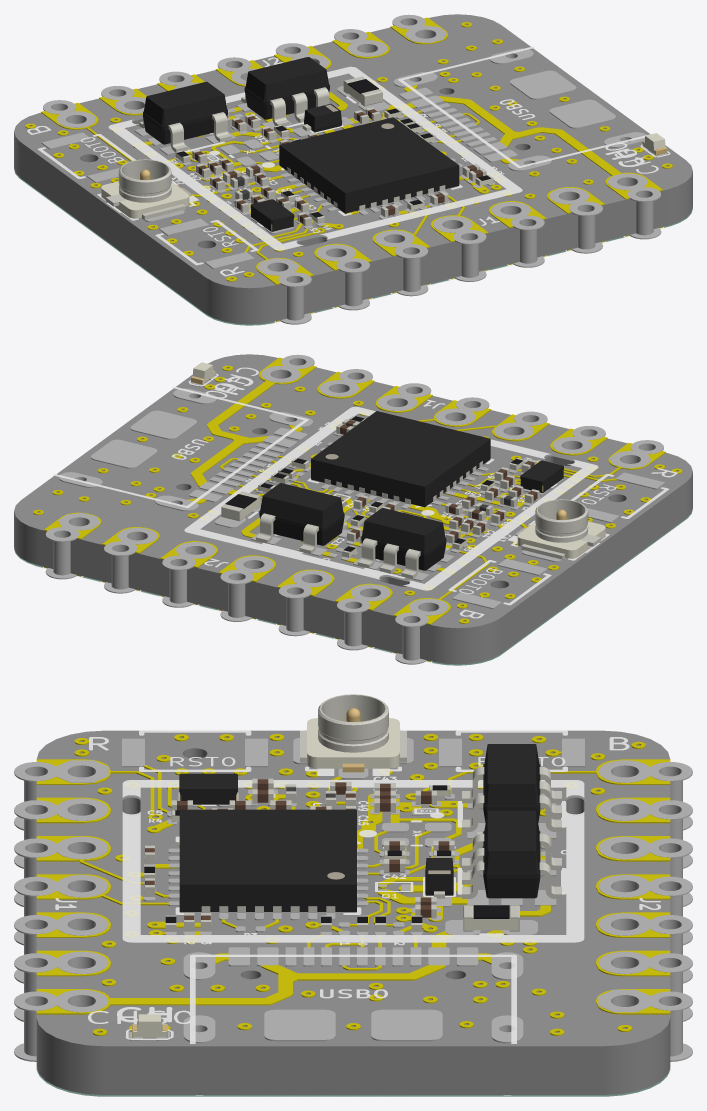
File: seeed-xiao-esp32-c3.glb
3 views of the same model, one above another, from view 1: azimuth 30°, elevation 25°; view 2: azimuth 150°, elevation 25°; view 3: azimuth 270°, elevation 25° (orthographic). The views are drawn at different scales.
Visible parts, largest first — view 1: =>[0:1:1:17], =>[0:1:1:13], =>[0:1:1:12], U4, =>[0:1:1:15], U1, U2, ANT0, X2, D1, F1, =>[0:1:1:16] (+1 smaller); view 2: =>[0:1:1:17], =>[0:1:1:13], =>[0:1:1:12], U4, =>[0:1:1:15], U1, U2, ANT0, X2, F1, =>[0:1:1:16], =>[0:1:1:14]; view 3: =>[0:1:1:17], =>[0:1:1:13], =>[0:1:1:12], =>[0:1:1:15], U4, ANT0, U2, U1, X2, F1, =>[0:1:1:14], =>[0:1:1:16] (+2 smaller).
Part boxes in pixels (x1=…): =>[0:1:1:17]: x1=14, y1=14, x2=692, y2=324; =>[0:1:1:13]: x1=41, y1=14, x2=667, y2=324; =>[0:1:1:12]: x1=25, y1=17, x2=672, y2=321; U4: x1=279, y1=117, x2=459, y2=213; =>[0:1:1:15]: x1=27, y1=46, x2=674, y2=325; U1: x1=139, y1=81, x2=231, y2=151; U2: x1=241, y1=57, x2=329, y2=126; ANT0: x1=101, y1=159, x2=189, y2=219; X2: x1=250, y1=199, x2=294, y2=231; D1: x1=302, y1=103, x2=343, y2=132; F1: x1=343, y1=76, x2=382, y2=106; =>[0:1:1:16]: x1=14, y1=157, x2=692, y2=325; =>[0:1:1:17]: x1=14, y1=354, x2=692, y2=664; =>[0:1:1:13]: x1=45, y1=354, x2=665, y2=664; =>[0:1:1:12]: x1=33, y1=357, x2=682, y2=661; U4: x1=311, y1=411, x2=490, y2=507; =>[0:1:1:15]: x1=32, y1=367, x2=677, y2=665; U1: x1=357, y1=508, x2=449, y2=578; U2: x1=256, y1=483, x2=347, y2=554; ANT0: x1=517, y1=499, x2=605, y2=559; X2: x1=520, y1=460, x2=563, y2=492; F1: x1=221, y1=491, x2=260, y2=521; =>[0:1:1:16]: x1=14, y1=508, x2=692, y2=665; =>[0:1:1:14]: x1=36, y1=366, x2=679, y2=621; =>[0:1:1:17]: x1=36, y1=730, x2=670, y2=1094; =>[0:1:1:13]: x1=14, y1=738, x2=692, y2=1061; =>[0:1:1:12]: x1=36, y1=734, x2=670, y2=1035; =>[0:1:1:15]: x1=36, y1=729, x2=670, y2=1095; U4: x1=179, y1=809, x2=357, y2=912; ANT0: x1=300, y1=694, x2=406, y2=772; U2: x1=462, y1=810, x2=561, y2=898; U1: x1=462, y1=744, x2=561, y2=831; X2: x1=179, y1=773, x2=237, y2=804; F1: x1=463, y1=905, x2=519, y2=931; =>[0:1:1:14]: x1=78, y1=735, x2=642, y2=1033; =>[0:1:1:16]: x1=36, y1=812, x2=670, y2=1096.
Size of the model in its own units: 0.0211 by 0.00322 by 0.019.
